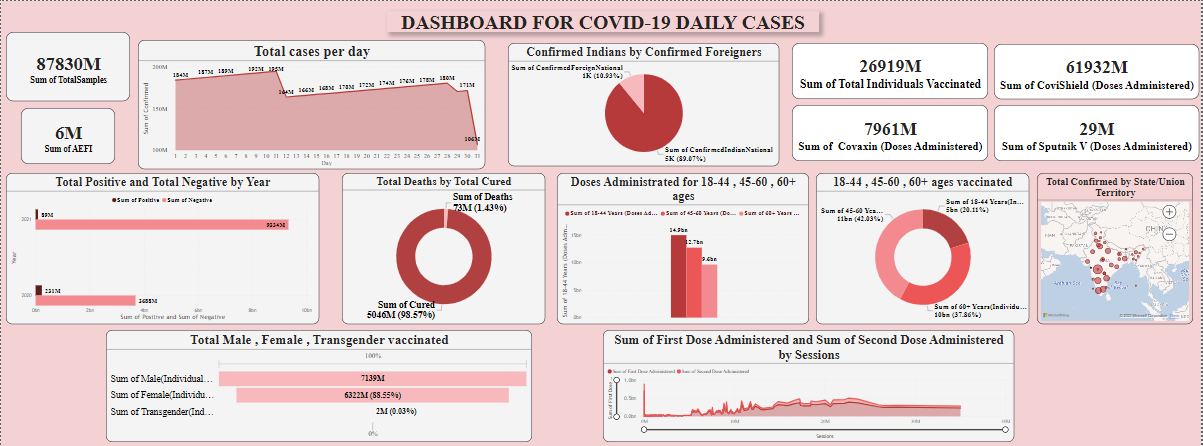

The dashboard page shown, as its layout file describes it:
{"tool":"powerbi","page":{"name":"DASHBOARD","canvas":[3000,1116],"ordinal":0},"visuals":[{"type":"pieChart","title":"Confirmed Indians by Confirmed Foreigners","fields":{"Y":["Sum(covid_19_india.ConfirmedIndianNational)","Sum(covid_19_india.ConfirmedForeignNational)"]},"box":[1267.5,105,677.5,307.5],"z":0},{"type":"clusteredColumnChart","title":"Doses Administrated for 18-44 , 45-60 , 60+ ages ","fields":{"Y":["Sum(covid_vaccine_statewise.18-44 Years (Doses Administered))","Sum(covid_vaccine_statewise.45-60 Years (Doses Administered))","Sum(covid_vaccine_statewise.60+ Years (Doses Administered))"]},"box":[1390,430,630,377.5],"z":1000},{"type":"donutChart","title":"18-44 , 45-60 , 60+ ages vaccinated","fields":{"Y":["Sum(covid_vaccine_statewise.18-44 Years(Individuals Vaccinated))","Sum(covid_vaccine_statewise.60+ Years(Individuals Vaccinated))","Sum(covid_vaccine_statewise.45-60 Years(Individuals Vaccinated))"]},"box":[2037.5,430,532.5,377.5],"z":2000},{"type":"card","fields":{"Values":["Sum(covid_vaccine_statewise. Covaxin (Doses Administered))"]},"box":[1977.5,260,490,140],"z":3000},{"type":"card","fields":{"Values":["Sum(covid_vaccine_statewise.CoviShield (Doses Administered))"]},"box":[2482.5,107.5,512.5,137.5],"z":4000},{"type":"card","fields":{"Values":["Sum(covid_vaccine_statewise.Sputnik V (Doses Administered))"]},"box":[2482.5,260,512.5,140],"z":5000},{"type":"card","fields":{"Values":["Sum(covid_vaccine_statewise.Total Individuals Vaccinated)"]},"box":[1977.5,105,490,140],"z":6000},{"type":"map","title":"Total Confirmed by State/Union Territory","fields":{"Category":["covid_19_india.State/UnionTerritory"],"Size":["Sum(covid_19_india.Confirmed)"]},"box":[2590,430,390,377.5],"z":7000},{"type":"donutChart","title":"Total Deaths by Total Cured","fields":{"Y":["Sum(covid_19_india.Deaths)","Sum(covid_19_india.Cured)"]},"box":[852.5,430,507.5,377.5],"z":8000},{"type":"card","fields":{"Values":["Sum(covid_vaccine_statewise.AEFI)"]},"box":[50,267.5,235,140],"z":9000},{"type":"card","fields":{"Values":["Sum(StatewiseTestingDetails.TotalSamples)"]},"box":[12.5,77.5,310,172.5],"z":10000},{"type":"clusteredBarChart","title":"Total Positive and Total Negative by Year","fields":{"Category":["StatewiseTestingDetails.Date.Variation.Date Hierarchy.Year","StatewiseTestingDetails.Date.Variation.Date Hierarchy.Quarter","StatewiseTestingDetails.Date.Variation.Date Hierarchy.Month","StatewiseTestingDetails.Date.Variation.Date Hierarchy.Day"],"Y":["Sum(StatewiseTestingDetails.Positive)","Sum(StatewiseTestingDetails.Negative)"]},"box":[12.5,430,782.5,377.5],"z":11000},{"type":"funnel","title":"Total Male , Female , Transgender vaccinated  ","fields":{"Y":["Sum(covid_vaccine_statewise.Male(Individuals Vaccinated))","Sum(covid_vaccine_statewise.Female(Individuals Vaccinated))","Sum(covid_vaccine_statewise.Transgender(Individuals Vaccinated))"]},"box":[262.5,822.5,1065,280],"z":12000},{"type":"stackedAreaChart","fields":{"Category":["covid_vaccine_statewise.Sessions"],"Y":["Sum(covid_vaccine_statewise.First Dose Administered)","Sum(covid_vaccine_statewise.Second Dose Administered)"]},"box":[1505,822.5,1027.5,280],"z":13000},{"type":"actionButton","title":"DASHBOARD FOR COVID-19 DAILY CASES","box":[965,25,1080,52.5],"z":14000},{"type":"areaChart","title":"Total cases per day","fields":{"Category":["covid_19_india.Date.Variation.Date Hierarchy.Day"],"Y":["Sum(covid_19_india.Confirmed)"]},"box":[342.5,97.5,867.5,322.5],"z":15000}]}

Visuals, with their boxes in screenshot pixels (x1, y1, x2, y2), scaled from the page's 3000x1116 canvas onto the 1203x446 screenshot:
"Confirmed Indians by Confirmed Foreigners" pieChart: bbox(508, 42, 780, 165)
"Doses Administrated for 18-44 , 45-60 , 60+ ages " clusteredColumnChart: bbox(557, 172, 810, 323)
"18-44 , 45-60 , 60+ ages vaccinated" donutChart: bbox(817, 172, 1031, 323)
card - Sum(covid_vaccine_statewise. Covaxin (Doses Administered)): bbox(793, 104, 989, 160)
card - Sum(covid_vaccine_statewise.CoviShield (Doses Administered)): bbox(995, 43, 1201, 98)
card - Sum(covid_vaccine_statewise.Sputnik V (Doses Administered)): bbox(995, 104, 1201, 160)
card - Sum(covid_vaccine_statewise.Total Individuals Vaccinated): bbox(793, 42, 989, 98)
"Total Confirmed by State/Union Territory" map: bbox(1039, 172, 1195, 323)
"Total Deaths by Total Cured" donutChart: bbox(342, 172, 545, 323)
card - Sum(covid_vaccine_statewise.AEFI): bbox(20, 107, 114, 163)
card - Sum(StatewiseTestingDetails.TotalSamples): bbox(5, 31, 129, 100)
"Total Positive and Total Negative by Year" clusteredBarChart: bbox(5, 172, 319, 323)
"Total Male , Female , Transgender vaccinated  " funnel: bbox(105, 329, 532, 441)
stackedAreaChart - covid_vaccine_statewise.Sessions x Sum(covid_vaccine_statewise.First Dose Administered): bbox(604, 329, 1016, 441)
"DASHBOARD FOR COVID-19 DAILY CASES" actionButton: bbox(387, 10, 820, 31)
"Total cases per day" areaChart: bbox(137, 39, 485, 168)
